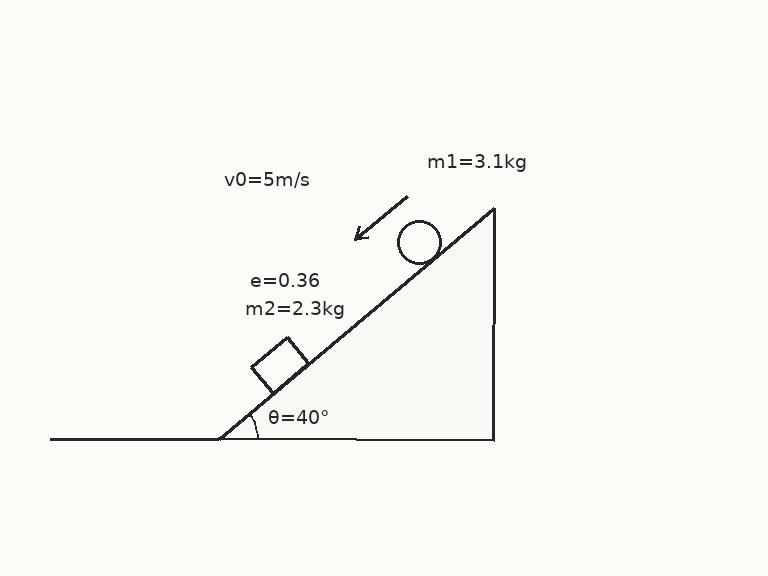ball: (395, 218, 443, 266)
block: (249, 335, 311, 395)
ramp: (216, 206, 496, 441)
